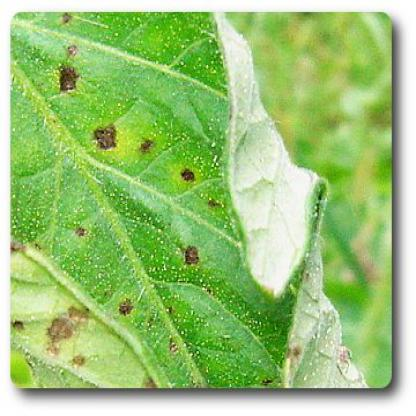tomato septoria leaf spot: (17, 13, 317, 379)
